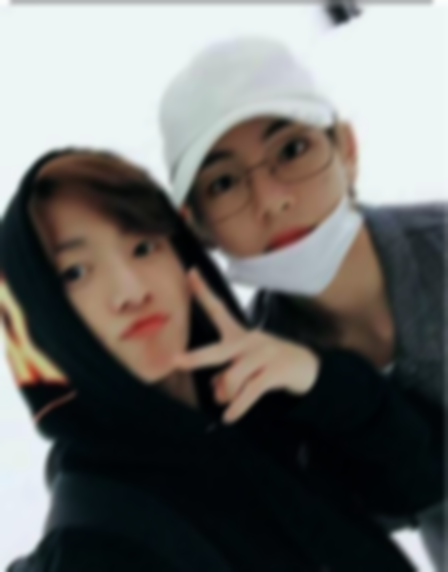mask_weared_incorrect: (163, 33, 356, 299)
